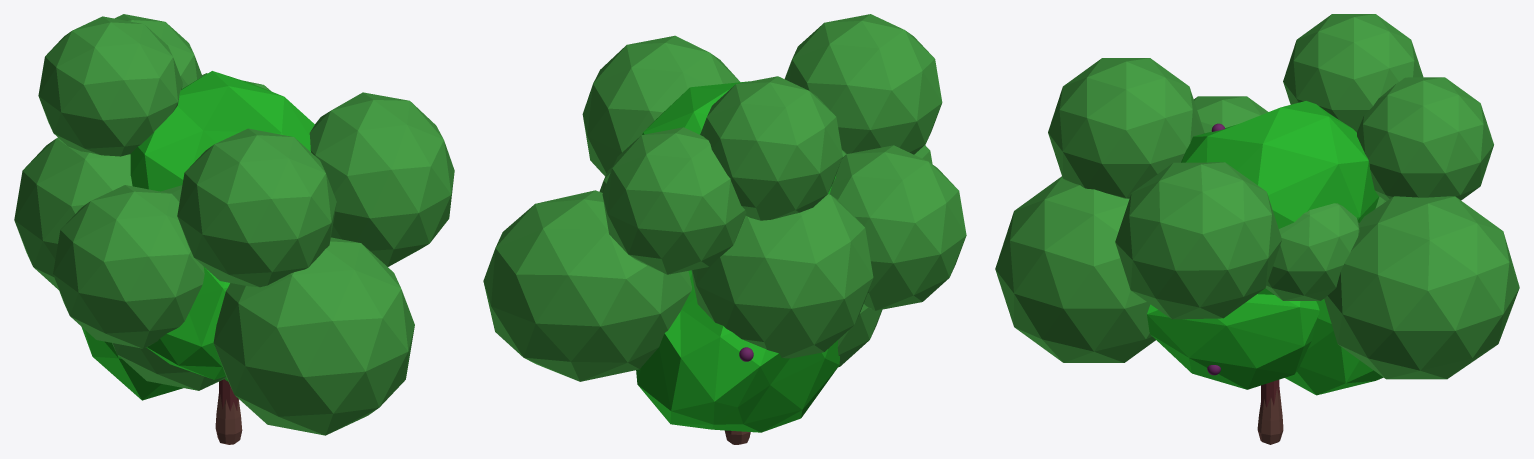
File: Props_Bushs.fbx
3 views of the same model, side by side, from view 1: azimuth 30°, elevation 25°; view 2: azimuth 150°, elevation 25°; view 3: azimuth 270°, elevation 25° (orthographic). The views are drawn at different scales.
Parts seen in each view (by area): view 1: bush_001_LOD0, bush_002; view 2: bush_001_LOD0, bush_002; view 3: bush_001_LOD0, bush_002.
Part boxes in pixels (<box>): bush_001_LOD0: <box>14,14,454,444</box>; bush_002: <box>81,71,314,444</box>; bush_001_LOD0: <box>483,14,966,444</box>; bush_002: <box>636,81,839,432</box>; bush_001_LOD0: <box>995,14,1519,444</box>; bush_002: <box>1147,101,1383,411</box>.
Bounding box in the file's own units: 123 × 102 × 95.09.
